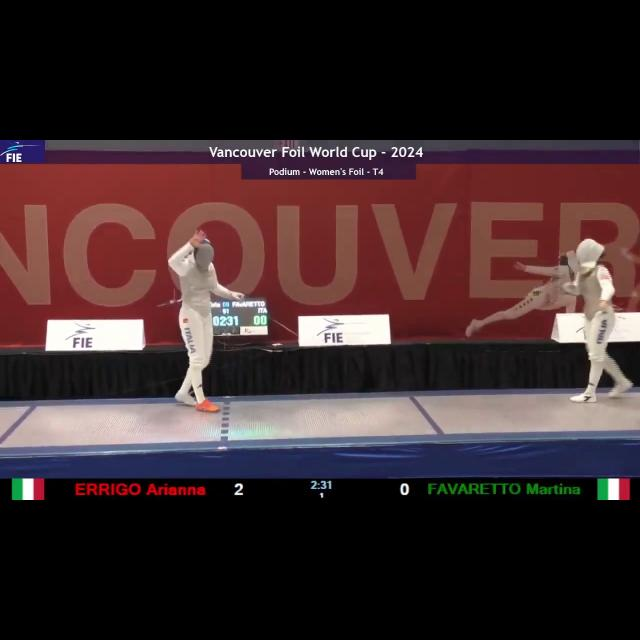blade: (240, 291, 316, 349)
